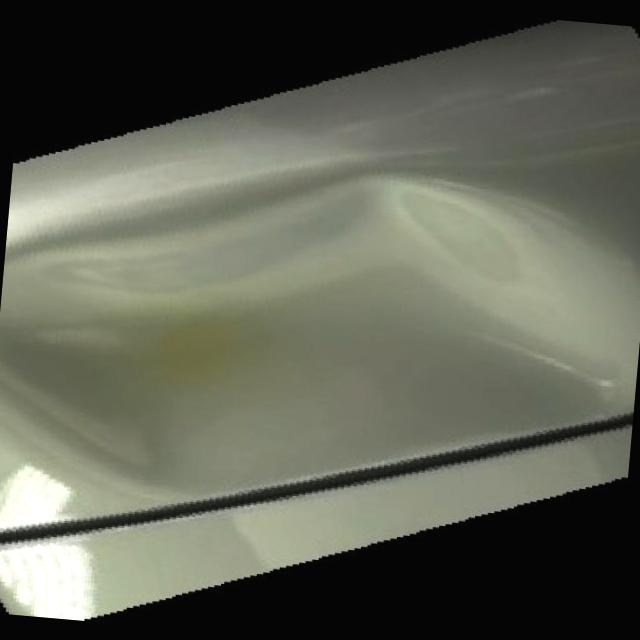dent: (0, 137, 639, 525)
